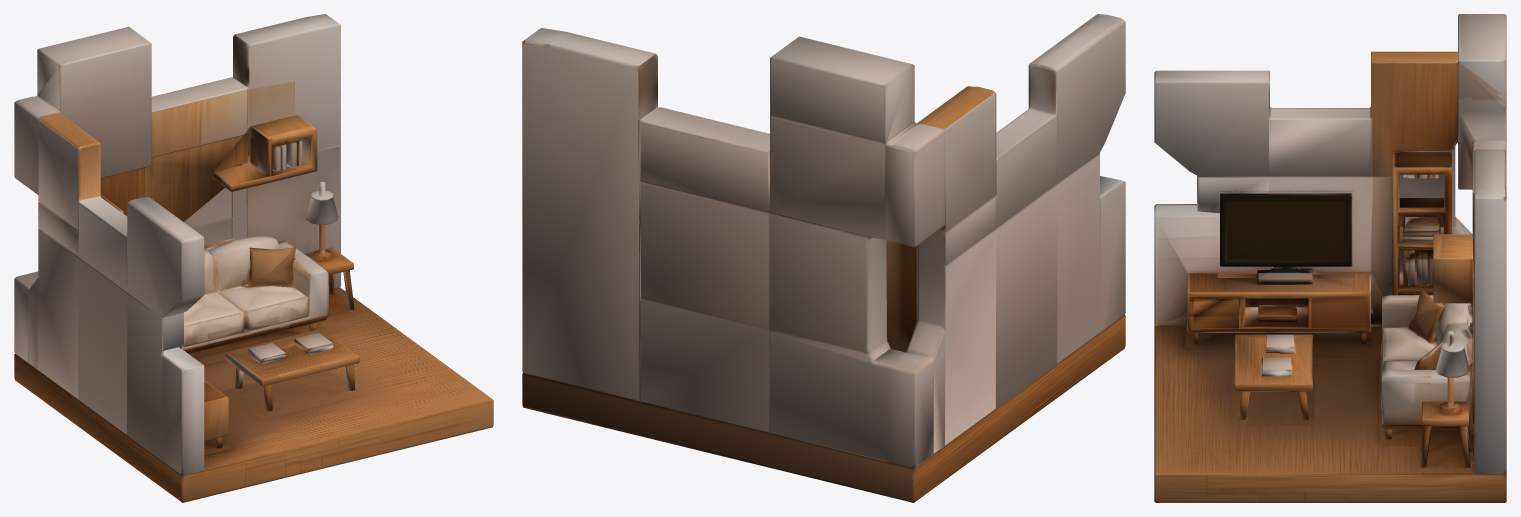
File: living-room.glb
3 views of the same model, side by side, from view 1: azimuth 30°, elevation 25°; view 2: azimuth 150°, elevation 25°; view 3: azimuth 270°, elevation 25° (orthographic). The views are drawn at different scales.
Visible parts, largest first — view 1: material; view 2: material; view 3: material.
Part boxes in pixels (x1=…): material: x1=14, y1=14, x2=493, y2=502; material: x1=522, y1=14, x2=1125, y2=502; material: x1=1154, y1=14, x2=1506, y2=502.
Size of the model in its own units: 1.9 by 1.9 by 1.77.
1 material, 1 textured.
